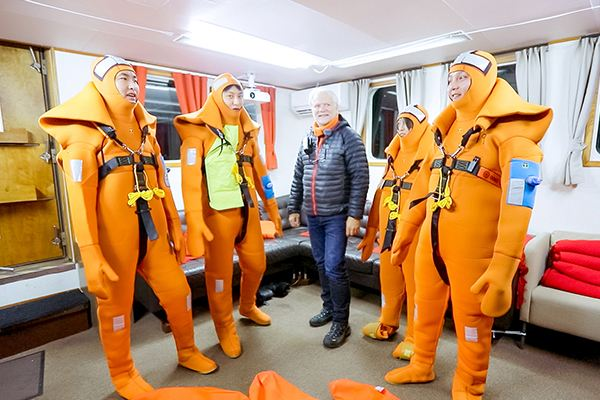other_clothes: (419, 86, 539, 263), (70, 84, 171, 234), (186, 99, 270, 223), (290, 115, 364, 219), (371, 122, 425, 248)
